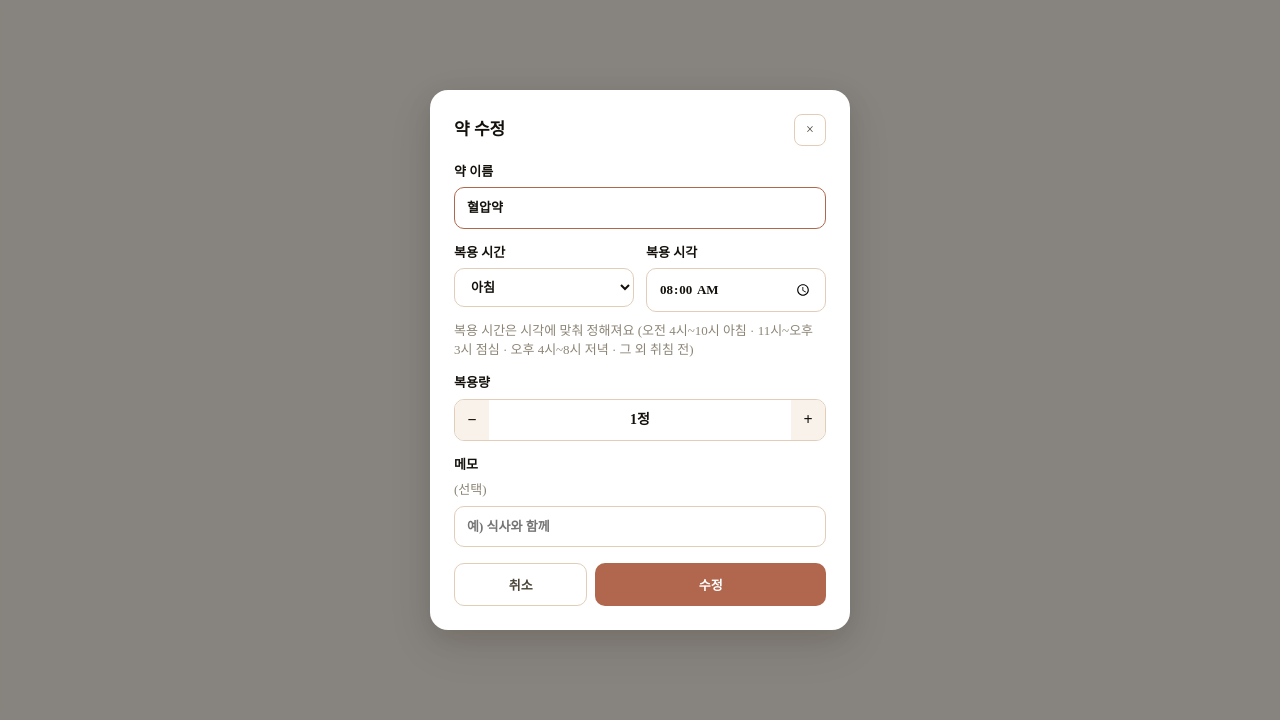
Test: MedicationFormModal (Chrome) › 복용 시간(시간대)을 고르면 시각이 그 시간대의 기본 시각으로 바뀐다
Select "점심" in the dropdown labelled "복용 시간" at x=544, y=288, box [454, 268, 634, 307]
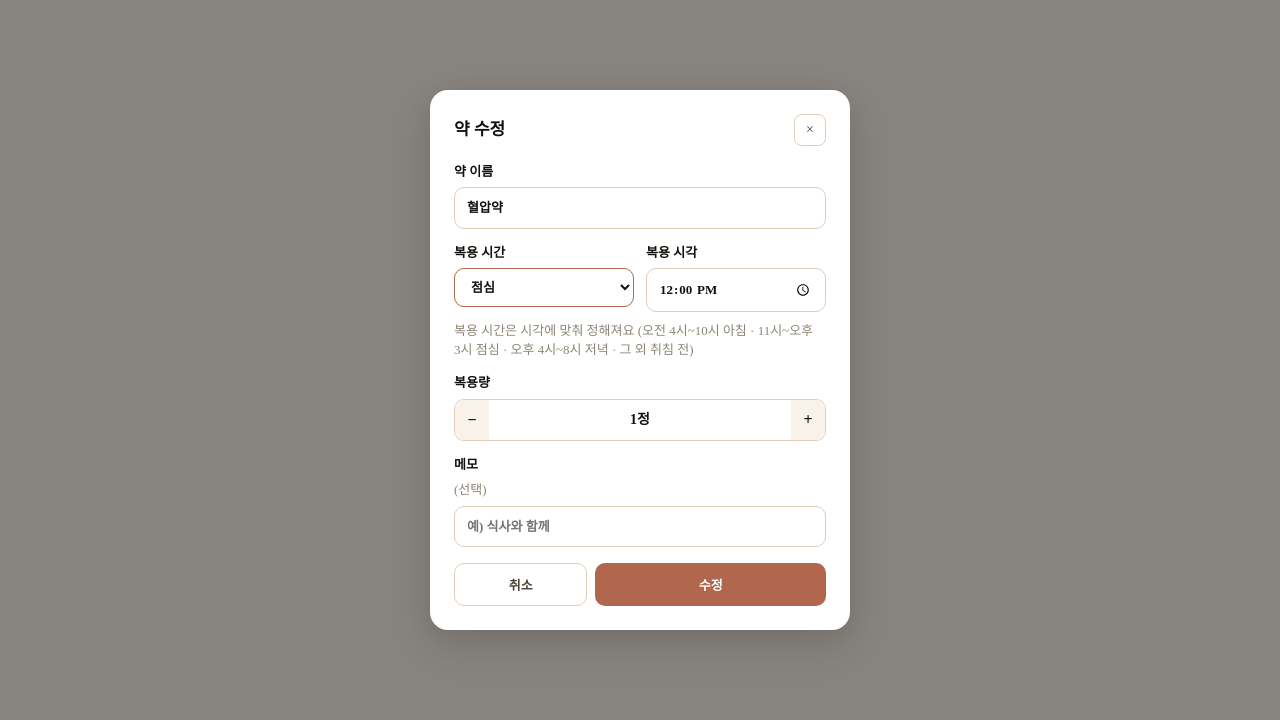
Result: the time field labelled "복용 시각" holds "12:00" at [646, 268, 826, 312]
